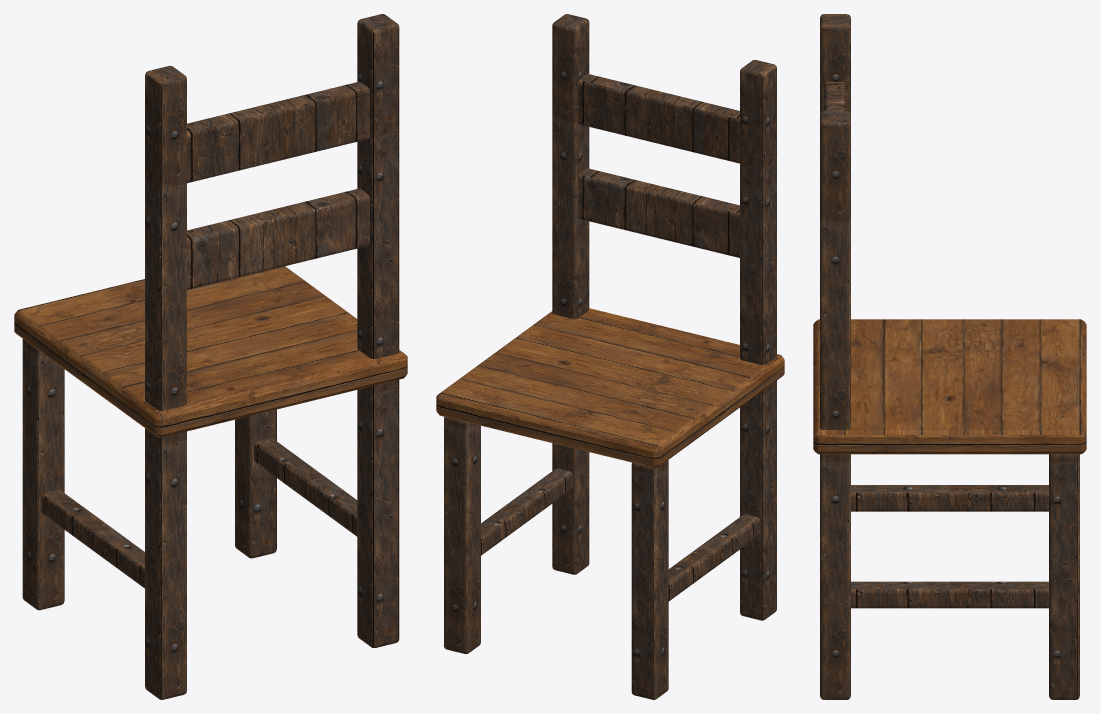
The model's file is chair-v01.glb.
3 views of the same model, side by side, from view 1: azimuth 30°, elevation 25°; view 2: azimuth 150°, elevation 25°; view 3: azimuth 270°, elevation 25° (orthographic). The views are drawn at different scales.
Visible parts, largest first — view 1: chair; view 2: chair; view 3: chair.
Boxes of the visible parts, x1,y1,x2,y2 form: chair: (14, 14, 407, 699); chair: (436, 14, 784, 699); chair: (813, 14, 1086, 699).
Size of the model in its own units: 0.62 by 1.45 by 0.62.
Materials: 2 (2 with a texture image).
